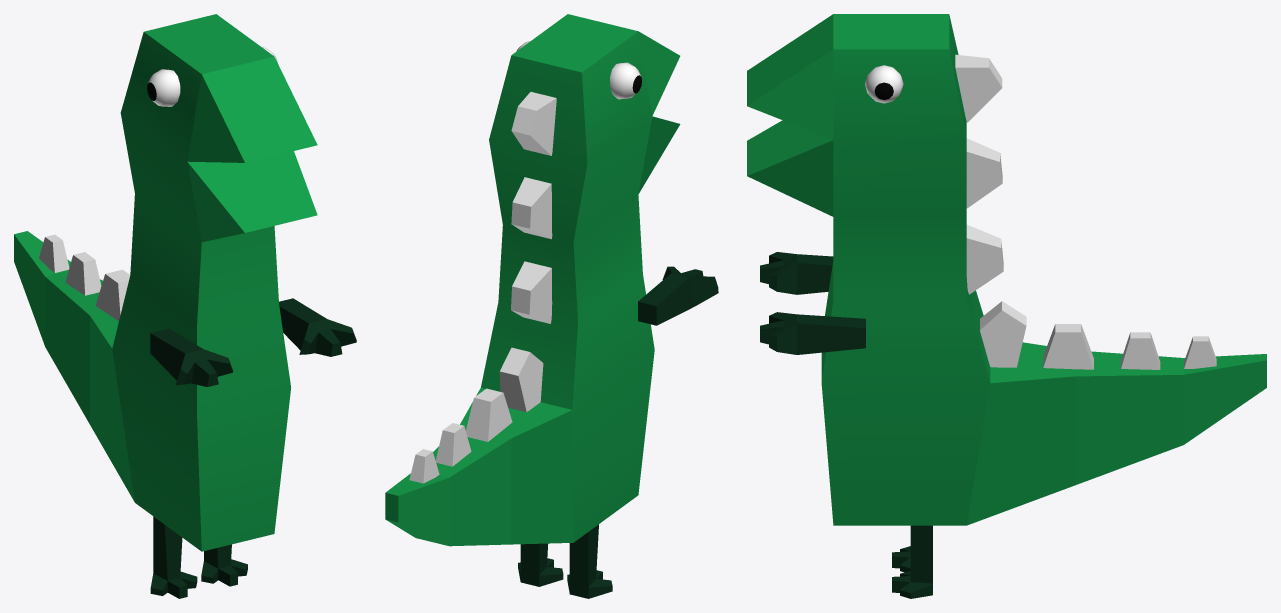
The model's file is dinosaur.FBX.
3 renders of one model, left to right at view 1: azimuth 30°, elevation 25°; view 2: azimuth 150°, elevation 25°; view 3: azimuth 270°, elevation 25°, orthographic. The views are drawn at different scales.
Visible parts, largest first — view 1: bodyMain, back, rightHand, rightHand001, rightLeg, leftLeg, eye; view 2: bodyMain, back, rightHand, rightLeg, leftLeg, eye; view 3: bodyMain, back, rightHand001, rightHand, leftLeg, eye.
Part boxes in pixels (bbox=[...]): bodyMain: bbox=[14, 14, 317, 551]; back: bbox=[39, 234, 130, 320]; rightHand: bbox=[150, 328, 233, 386]; rightHand001: bbox=[279, 298, 356, 356]; rightLeg: bbox=[150, 516, 197, 598]; leftLeg: bbox=[201, 544, 247, 586]; eye: bbox=[147, 47, 277, 106]; bodyMain: bbox=[385, 14, 680, 546]; back: bbox=[409, 92, 556, 483]; rightHand: bbox=[638, 266, 718, 325]; rightLeg: bbox=[567, 524, 612, 598]; leftLeg: bbox=[518, 543, 563, 586]; eye: bbox=[516, 41, 641, 99]; bodyMain: bbox=[747, 14, 1266, 525]; back: bbox=[955, 54, 1216, 369]; rightHand001: bbox=[760, 312, 865, 354]; rightHand: bbox=[760, 252, 833, 294]; leftLeg: bbox=[892, 525, 932, 598]; eye: bbox=[865, 65, 903, 103].
Size of the model in its own units: 4043 by 11681 by 10070.
